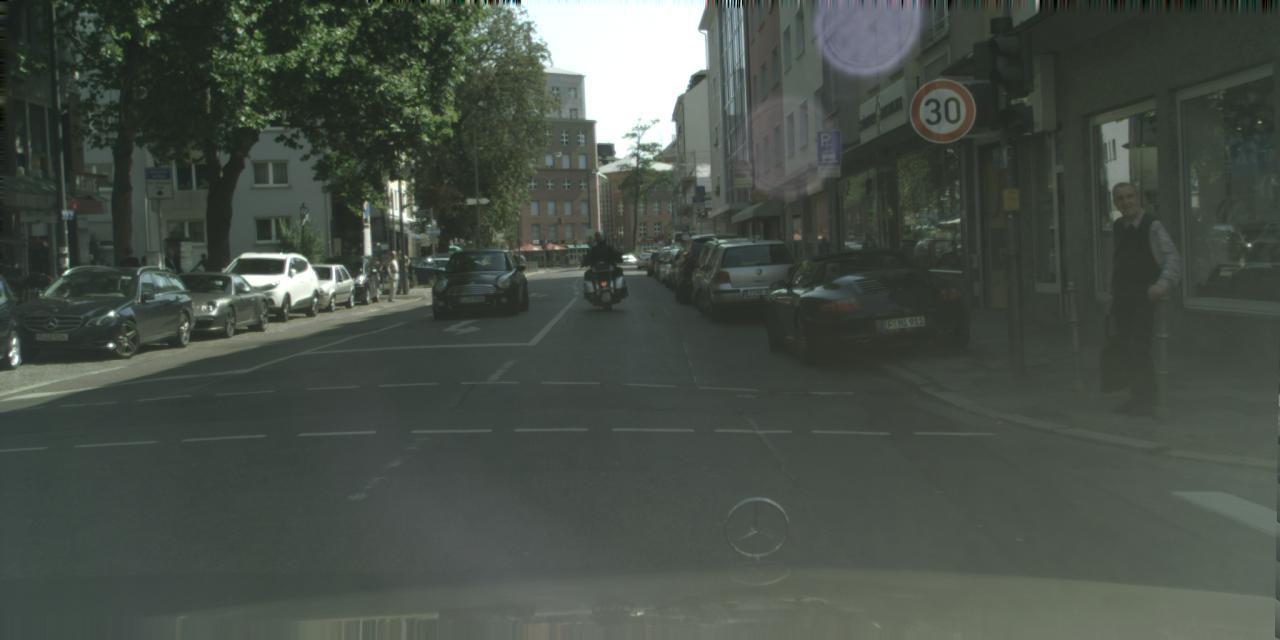ped: (1082, 181, 1178, 417), (156, 248, 181, 313), (588, 230, 614, 291), (134, 256, 156, 310), (382, 250, 402, 300), (392, 249, 410, 294), (198, 252, 213, 290), (770, 237, 784, 274), (374, 260, 384, 284)
